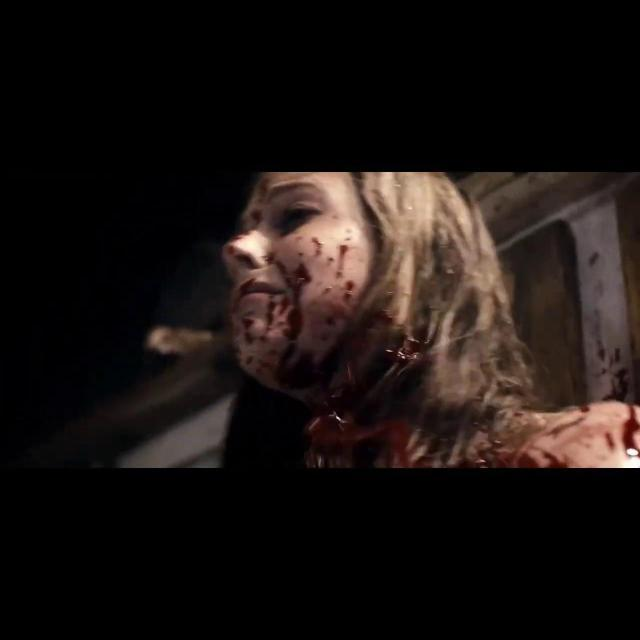blood: (312, 306, 578, 469), (226, 174, 379, 390), (548, 405, 640, 457)
